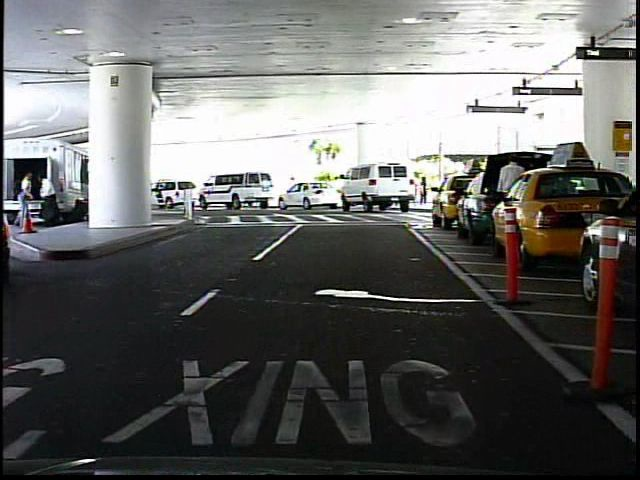person: (492, 151, 528, 245), (417, 175, 432, 207), (285, 172, 300, 204)
